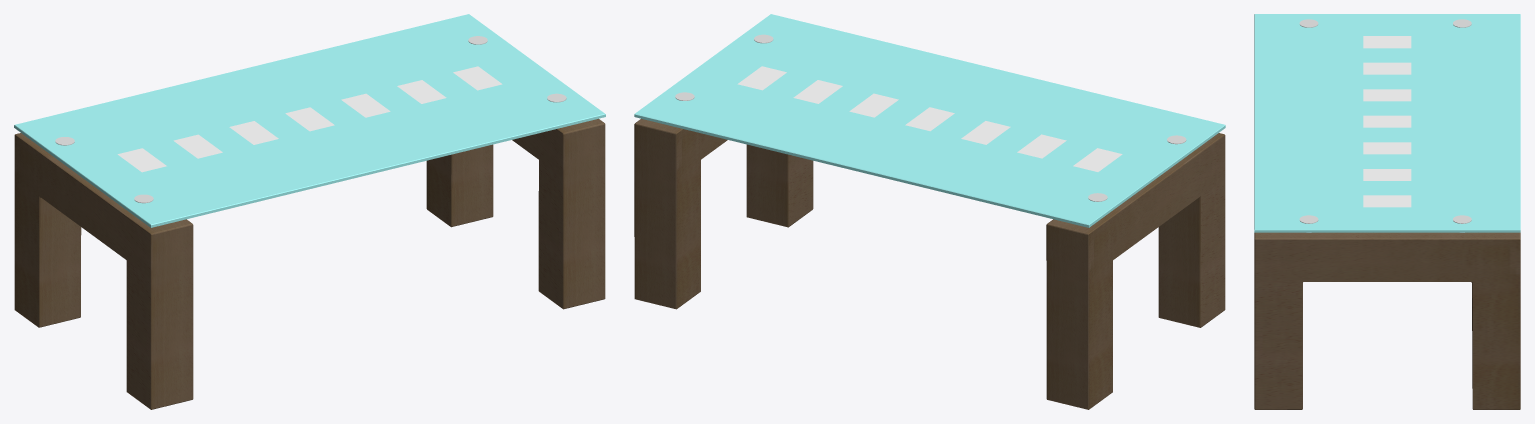
The model's file is Coffee_Table.fbx.
3 renders of one model, left to right at view 1: azimuth 30°, elevation 25°; view 2: azimuth 150°, elevation 25°; view 3: azimuth 270°, elevation 25°, orthographic. The views are drawn at different scales.
Visible parts, largest first — view 1: Glass, Wooden_Legs_01, Wooden_Legs_02, Metal_Discs; view 2: Glass, Wooden_Legs_01, Wooden_Legs_02, Metal_Discs; view 3: Glass, Wooden_Legs_02, Metal_Discs.
Part boxes in pixels (bbox=[...]): Glass: bbox=[14, 14, 605, 227]; Wooden_Legs_01: bbox=[14, 133, 193, 409]; Wooden_Legs_02: bbox=[426, 118, 605, 309]; Metal_Discs: bbox=[55, 36, 566, 203]; Glass: bbox=[634, 14, 1225, 227]; Wooden_Legs_01: bbox=[1046, 133, 1225, 409]; Wooden_Legs_02: bbox=[634, 118, 813, 309]; Metal_Discs: bbox=[675, 34, 1186, 201]; Glass: bbox=[1254, 14, 1520, 232]; Wooden_Legs_02: bbox=[1254, 232, 1520, 409]; Metal_Discs: bbox=[1299, 19, 1471, 232].
Size of the model in its own units: 1.84 by 0.72 by 0.9604.
